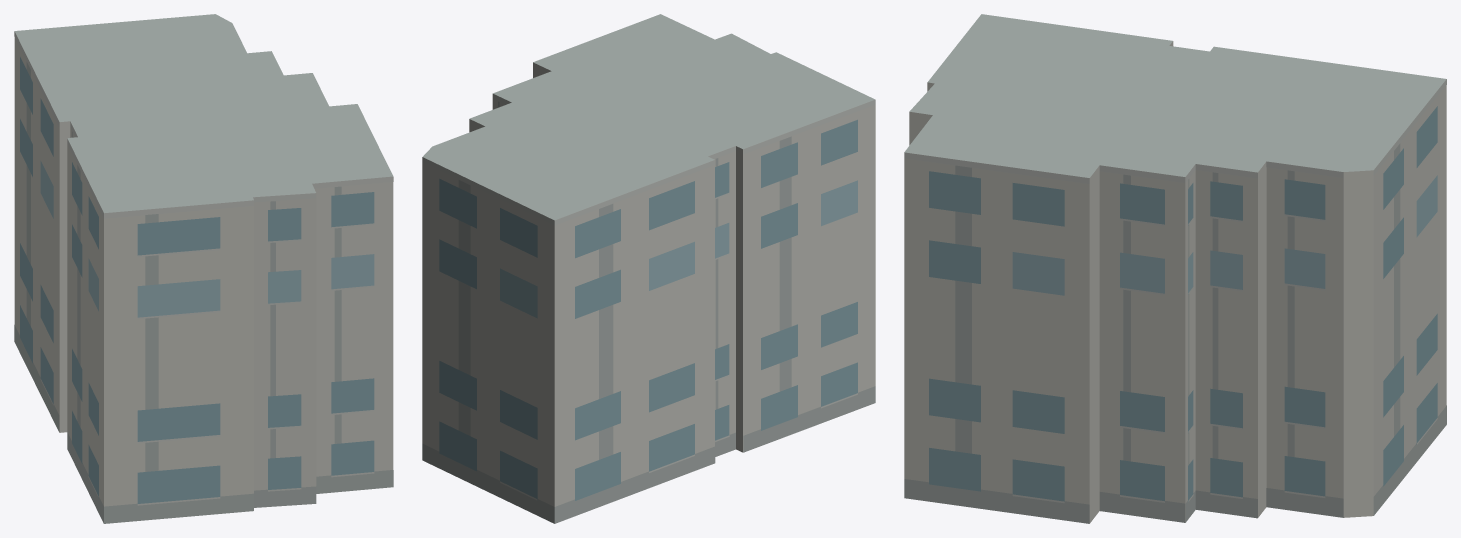
The model's file is survey-upis-32616030.glb.
3 views of the same model, side by side, from view 1: azimuth 30°, elevation 25°; view 2: azimuth 150°, elevation 25°; view 3: azimuth 270°, elevation 25° (orthographic). The views are drawn at different scales.
Parts seen in each view (by area): view 1: survey-upis-32616030.tmp; view 2: survey-upis-32616030.tmp; view 3: survey-upis-32616030.tmp.
Part boxes in pixels (box(x1,y1,x2,y2)): survey-upis-32616030.tmp: box(14, 14, 393, 523); survey-upis-32616030.tmp: box(422, 14, 875, 523); survey-upis-32616030.tmp: box(904, 14, 1446, 523).
Bounding box in the file's own units: 14.26 × 14 × 19.92.
